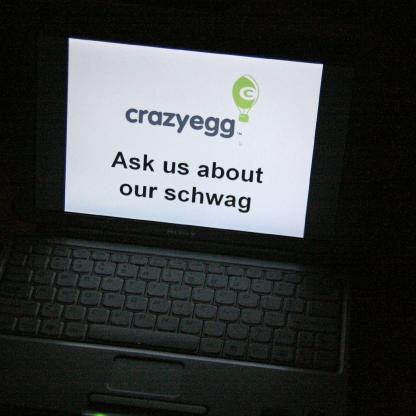board: (0, 21, 361, 416)
